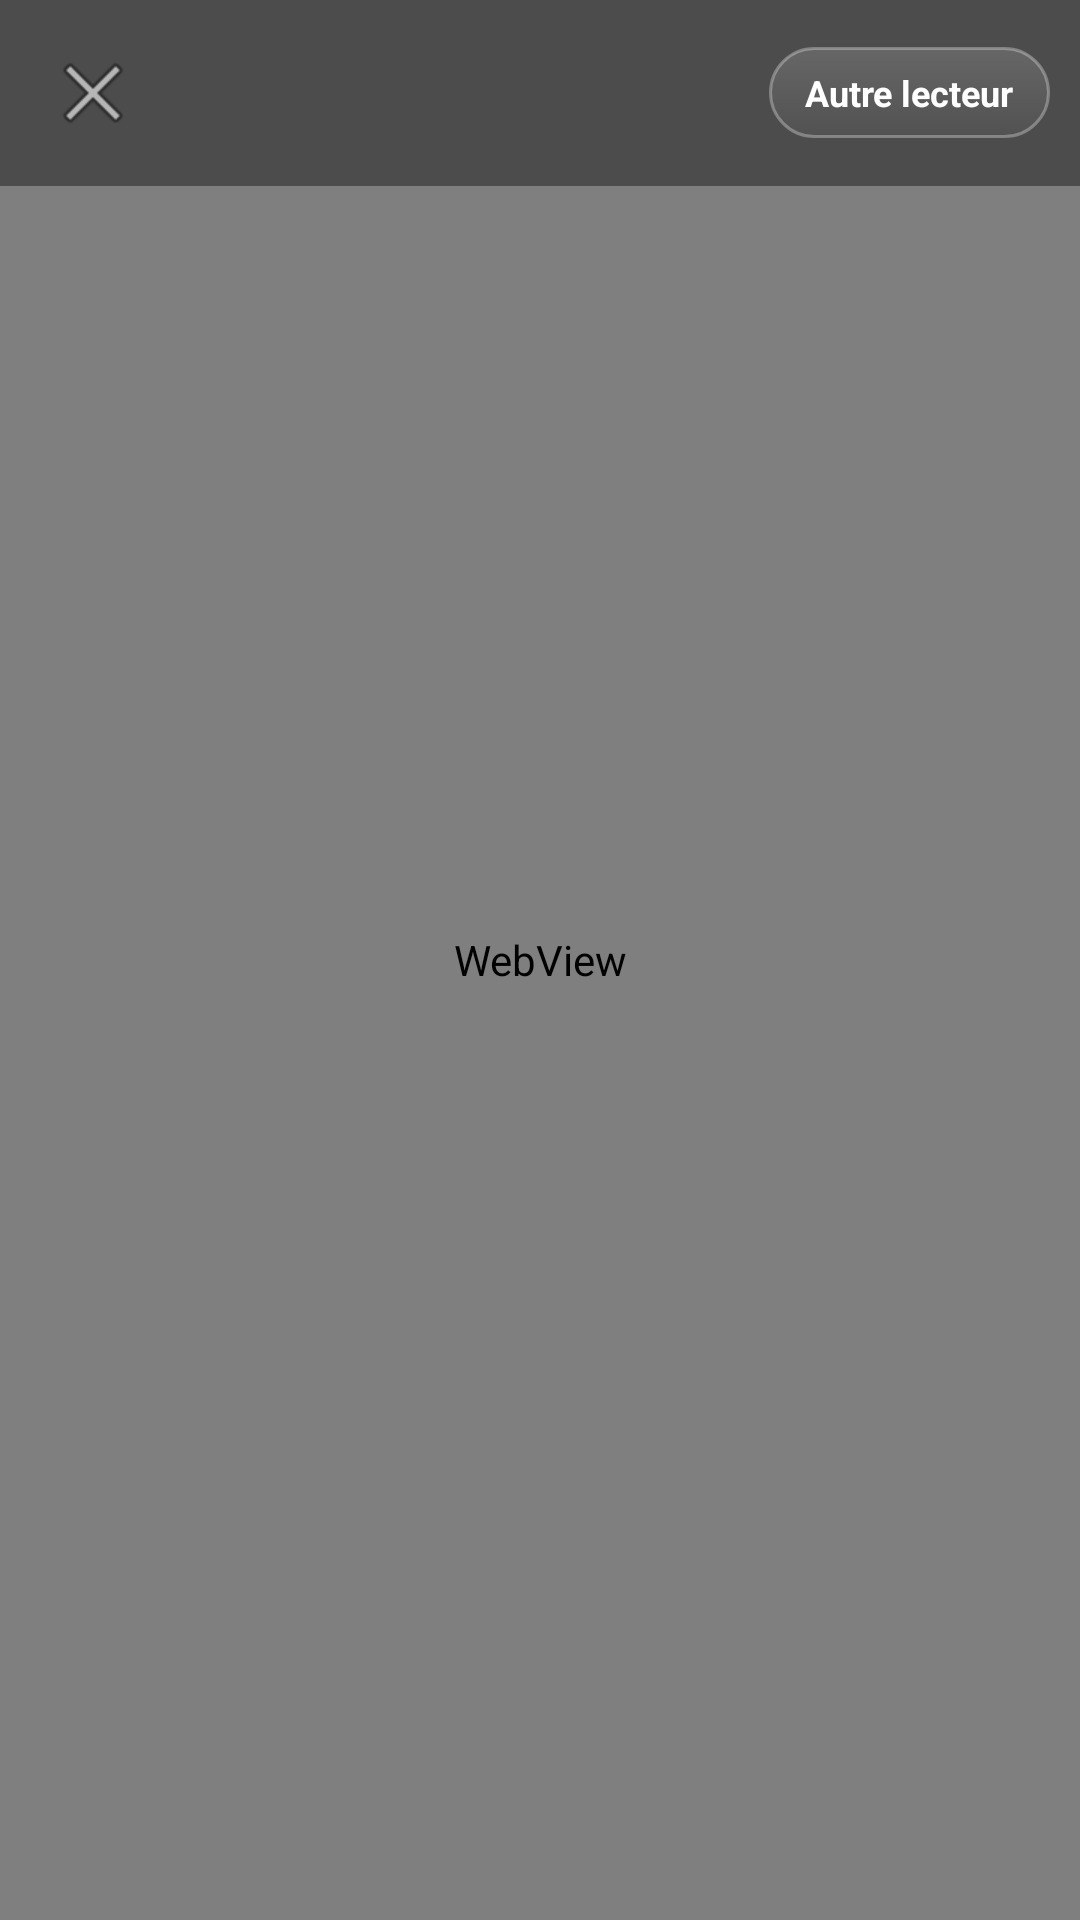

Named icons in this screenshot (1080w x 1920h) and their bounding boxes, (x1, y1, x2, y2):
Retour: (64, 64, 122, 122)
